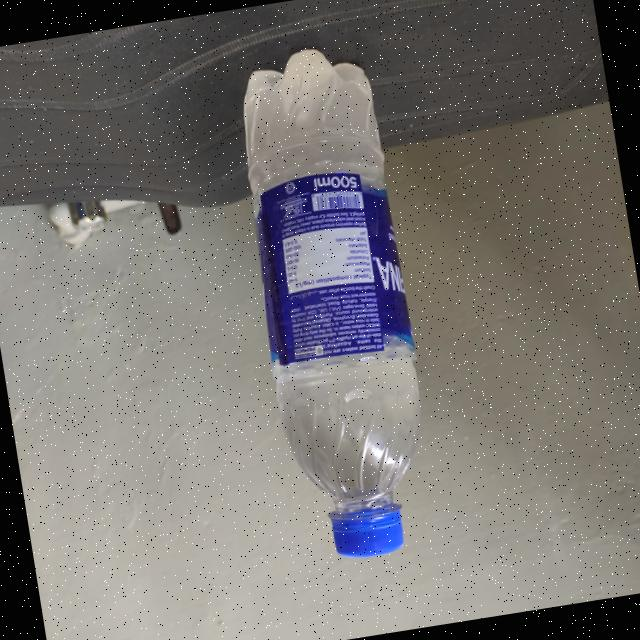bottle: (218, 38, 448, 568)
cap: (320, 492, 408, 564)
label: (241, 164, 417, 372)
